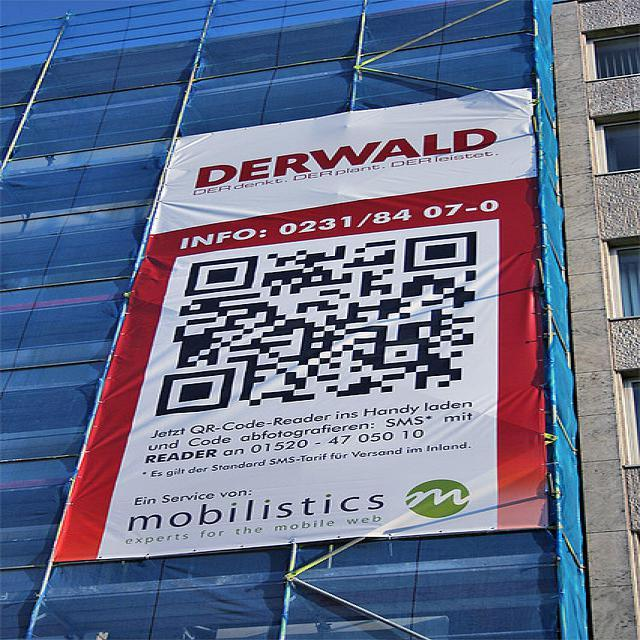qrcode: (157, 233, 476, 416)
